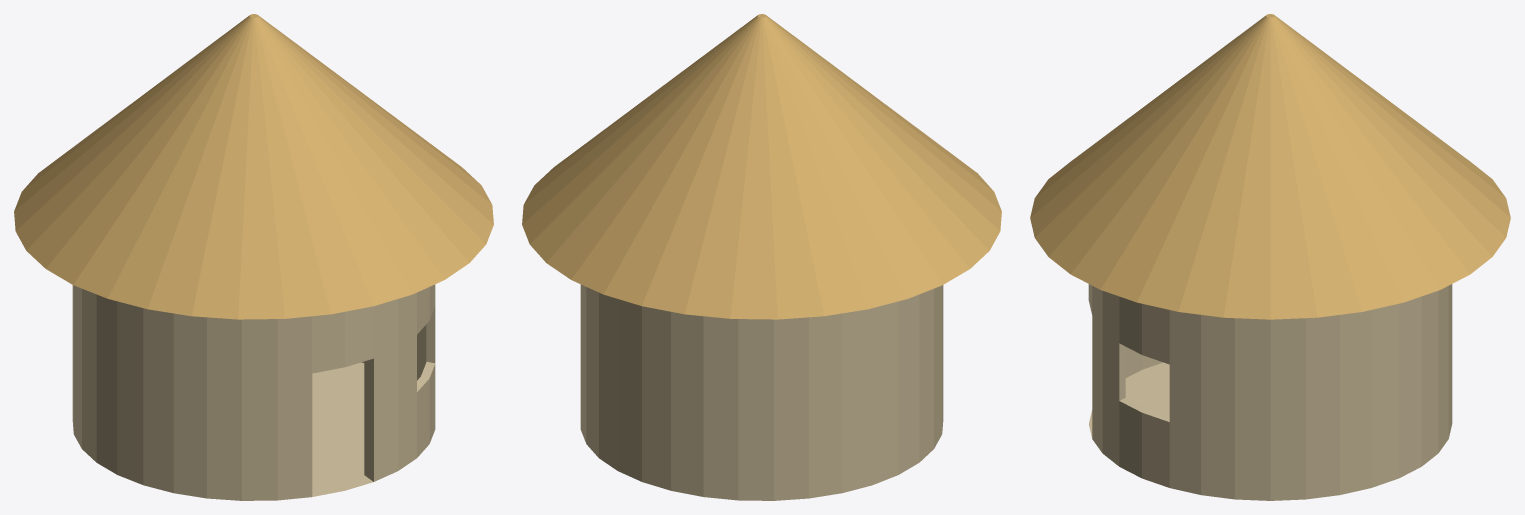
The model's file is hut.fbx.
The picture shows the model from 3 angles, left to right: view 1: azimuth 30°, elevation 25°; view 2: azimuth 150°, elevation 25°; view 3: azimuth 270°, elevation 25°; orthographic projection.
Parts seen in each view (by area): view 1: Cylinder.001; view 2: Cylinder.001; view 3: Cylinder.001.
Part boxes in pixels (<box>): Cylinder.001: <box>14,14,493,500</box>; Cylinder.001: <box>522,14,1001,500</box>; Cylinder.001: <box>1030,14,1510,500</box>.
Size of the model in its own units: 431 by 404 by 431.
